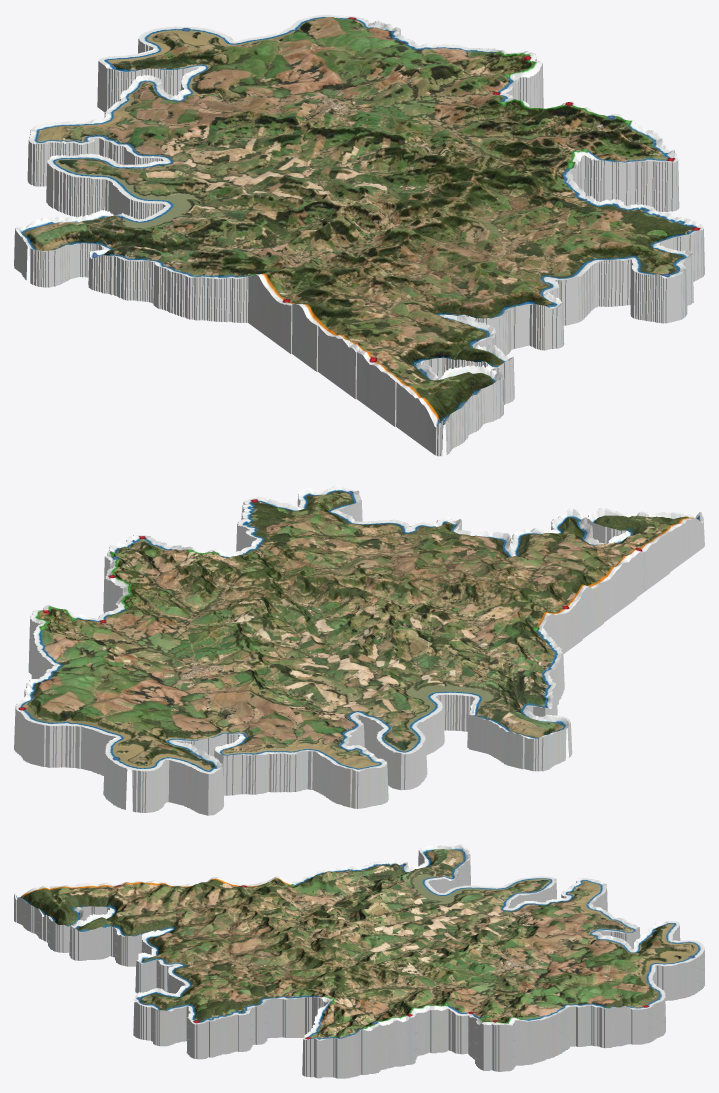
3 renders of one model, top to bottom at view 1: azimuth 30°, elevation 25°; view 2: azimuth 150°, elevation 25°; view 3: azimuth 270°, elevation 25°, orthographic. The views are drawn at different scales.
Size of the model in its own units: 1 by 0.1071 by 1.41.
1 material, 1 textured.
